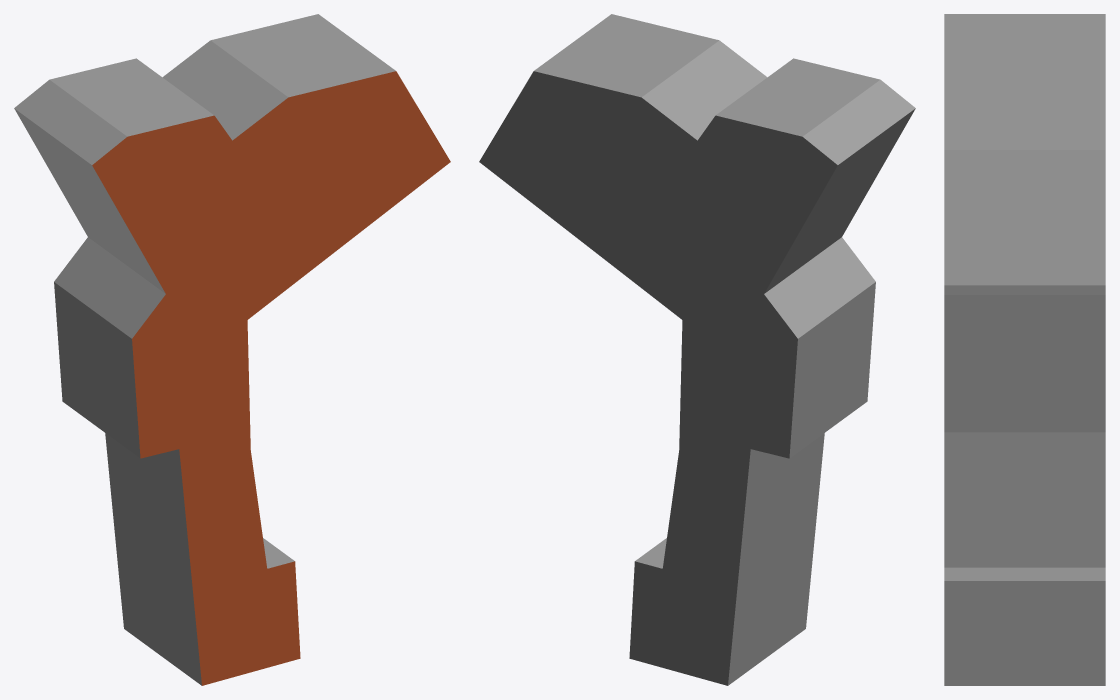
Rendered from construction_7002_assumed_A_Casa_h6m.obj.
The picture shows the model from 3 angles, left to right: view 1: azimuth 30°, elevation 25°; view 2: azimuth 150°, elevation 25°; view 3: azimuth 270°, elevation 25°; orthographic projection. The views are drawn at different scales.
Parts seen in each view (by area): view 1: construction_7002_assumed_A_Casa; view 2: construction_7002_assumed_A_Casa; view 3: construction_7002_assumed_A_Casa.
Part boxes in pixels (x1,y1,x2,y2): construction_7002_assumed_A_Casa: [14, 14, 450, 685]; construction_7002_assumed_A_Casa: [479, 14, 915, 685]; construction_7002_assumed_A_Casa: [944, 14, 1105, 685].
Size of the model in its own units: 15.93 by 24.08 by 6.
